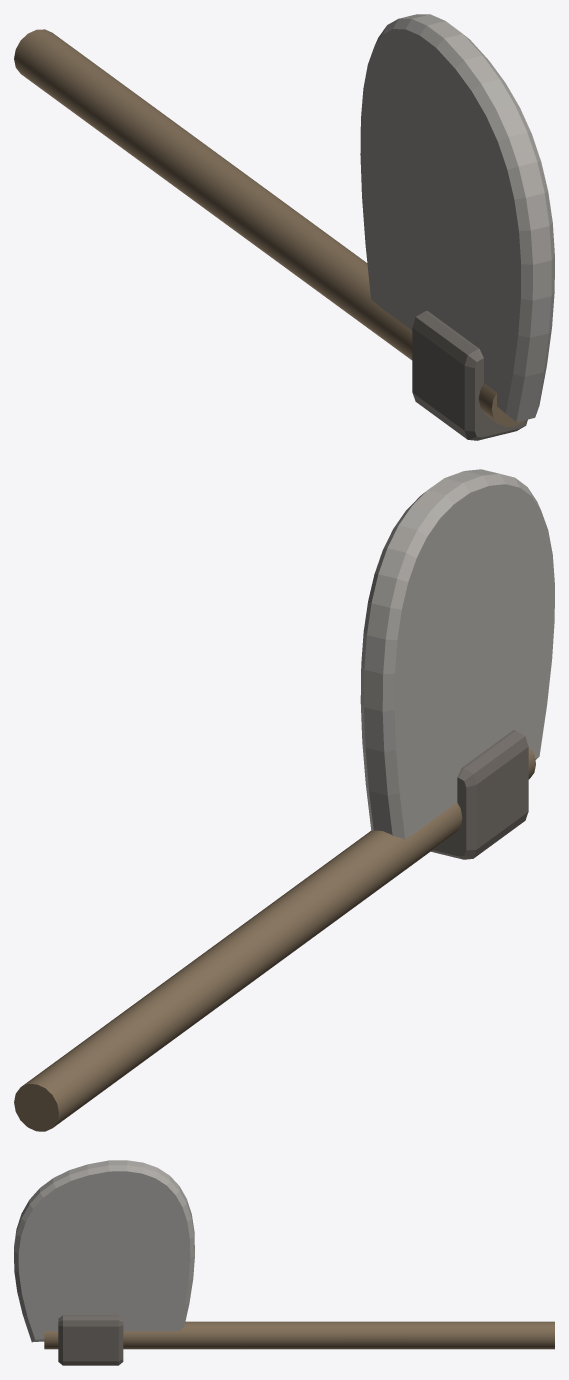
The model's file is machado_touro.glb.
The picture shows the model from 3 angles, top to bottom: view 1: azimuth 30°, elevation 25°; view 2: azimuth 150°, elevation 25°; view 3: azimuth 270°, elevation 25°; orthographic projection. The views are drawn at different scales.
Parts seen in each view (by area): view 1: Machado_Touro; view 2: Machado_Touro; view 3: Machado_Touro.
Part boxes in pixels (x1,y1,x2,y2): Machado_Touro: (14, 14, 554, 440); Machado_Touro: (14, 469, 554, 1131); Machado_Touro: (14, 1160, 554, 1365).
Size of the model in its own units: 0.086 by 0.4684 by 1.17.
